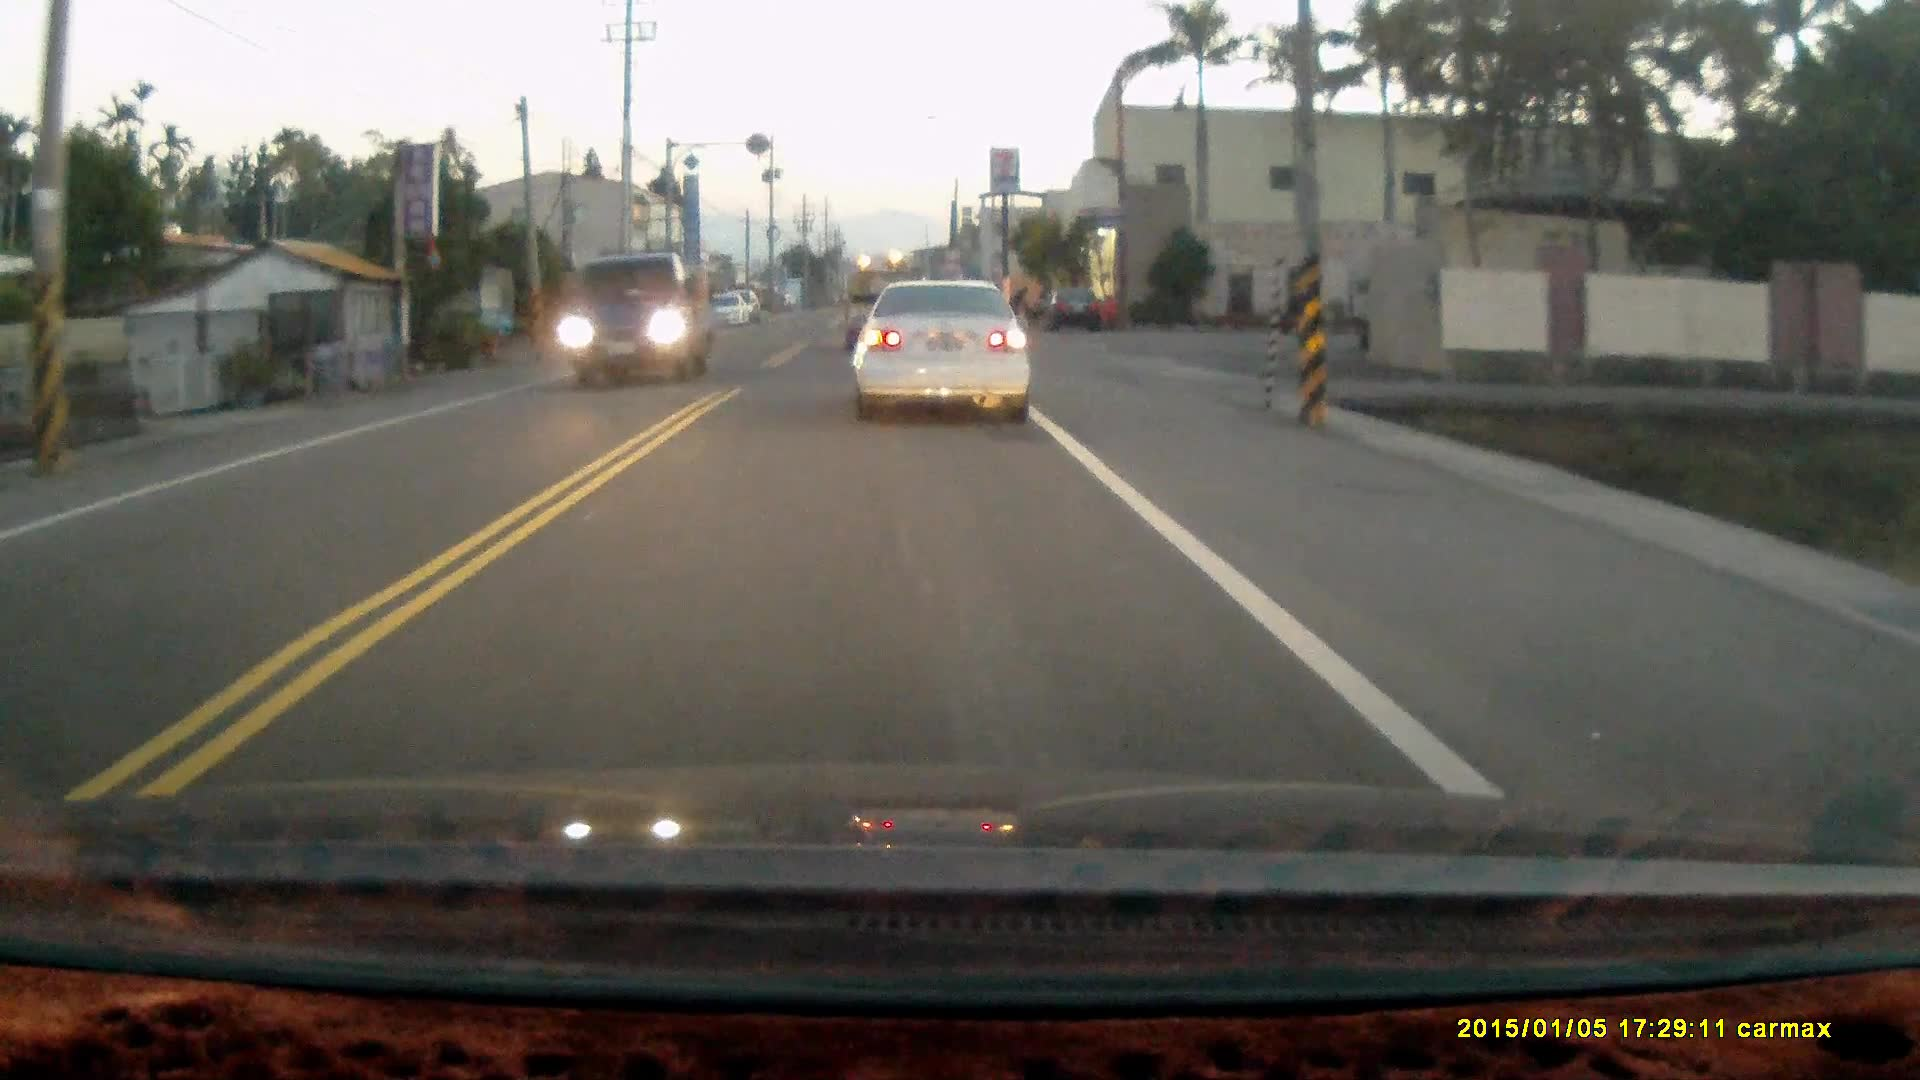rider: (1001, 282, 1038, 326)
vehicle: (858, 279, 1034, 434), (554, 249, 721, 393), (844, 271, 921, 360), (1042, 286, 1103, 337), (704, 293, 753, 329)
